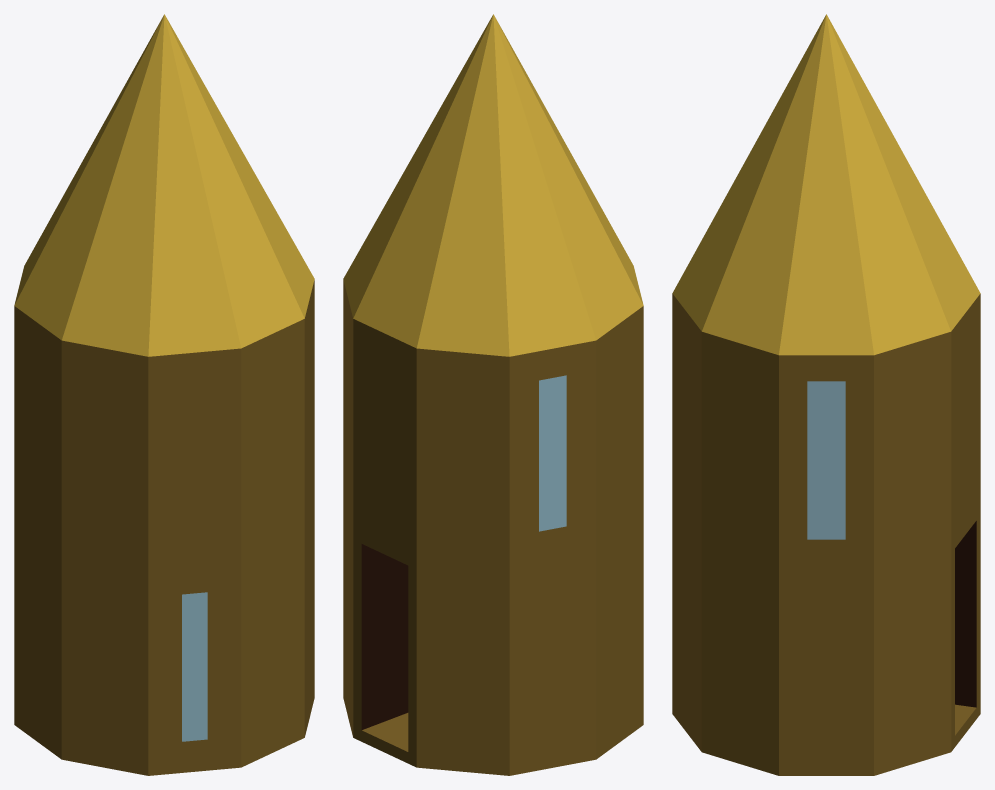
The picture shows the model from 3 angles, left to right: view 1: azimuth 30°, elevation 25°; view 2: azimuth 150°, elevation 25°; view 3: azimuth 270°, elevation 25°; orthographic projection.
Parts seen in each view (by area): view 1: Cone; view 2: Cone; view 3: Cone.
Boxes of the visible parts, x1,y1,x2,y2 form: Cone: [14, 14, 314, 775]; Cone: [343, 14, 643, 775]; Cone: [672, 14, 980, 775].
Size of the model in its own units: 190 by 501 by 200.
